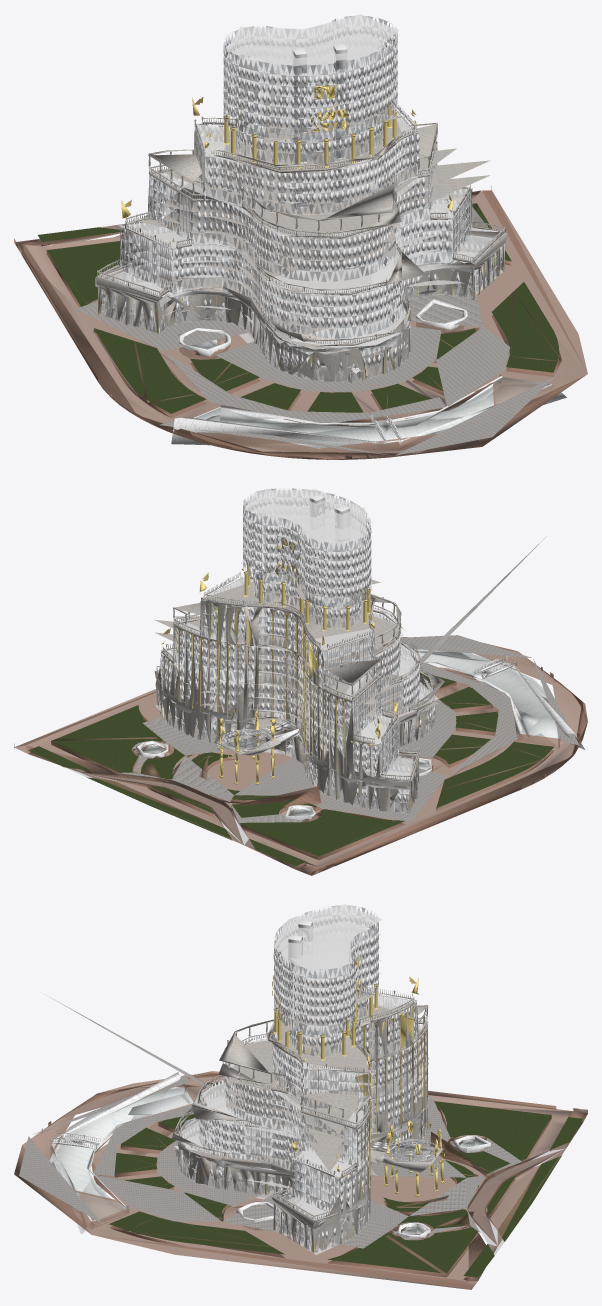
File: casino_tower.glb
3 renders of one model, top to bottom at view 1: azimuth 30°, elevation 25°; view 2: azimuth 150°, elevation 25°; view 3: azimuth 270°, elevation 25°, orthographic. The views are drawn at different scales.
Parts seen in each view (by area): view 1: bld; view 2: bld; view 3: bld.
Boxes of the visible parts, bbox=[...] form: bld: bbox=[14, 14, 587, 459]; bld: bbox=[14, 488, 587, 875]; bld: bbox=[14, 904, 587, 1289].
Size of the model in its own units: 117 by 64.37 by 132.
20 materials, 10 textured.
